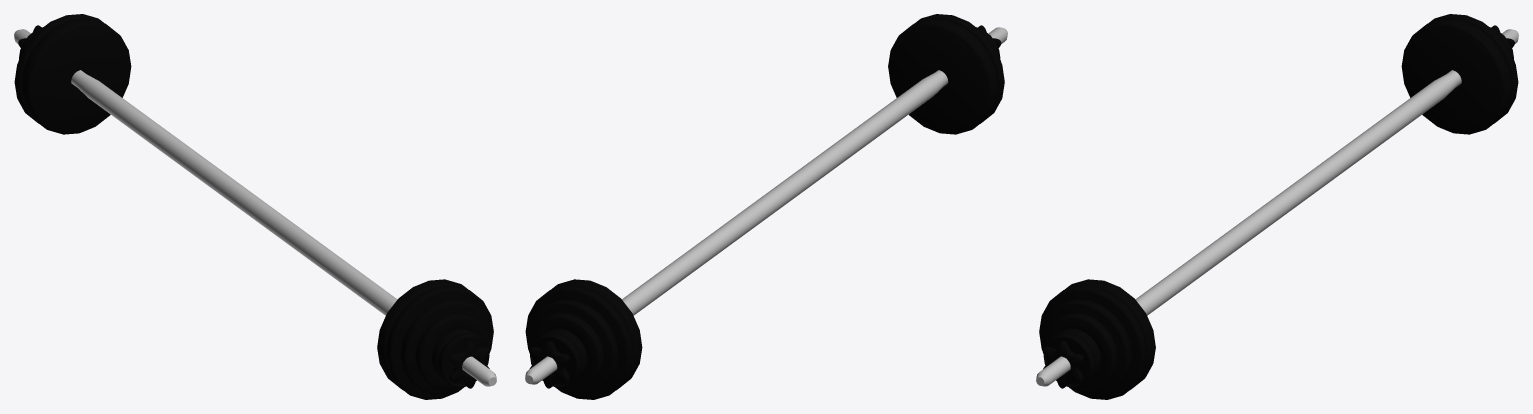
File: barra.obj
3 renders of one model, left to right at view 1: azimuth 30°, elevation 25°; view 2: azimuth 150°, elevation 25°; view 3: azimuth 330°, elevation 25°, orthographic.
Parts seen in each view (by area): view 1: Cylinder001, Cylinder012, Cylinder022, Cylinder024, Cylinder019, Cylinder023, Cylinder021, Cylinder011, Star003, Cylinder020; view 2: Cylinder001, Cylinder023, Cylinder011, Cylinder002, Cylinder004, Cylinder012, Cylinder006, Cylinder022, Star001, Cylinder005; view 3: Cylinder001, Cylinder012, Cylinder022, Cylinder024, Cylinder019, Cylinder023, Cylinder021, Cylinder011, Star003, Cylinder020.
Boxes of the visible parts, bbox=[...] form: Cylinder001: bbox=[14, 29, 496, 386]; Cylinder012: bbox=[21, 18, 131, 134]; Cylinder022: bbox=[385, 285, 493, 399]; Cylinder024: bbox=[400, 299, 491, 394]; Cylinder019: bbox=[415, 313, 488, 390]; Cylinder023: bbox=[377, 279, 467, 390]; Cylinder021: bbox=[437, 333, 489, 387]; Cylinder011: bbox=[14, 14, 103, 123]; Star003: bbox=[449, 341, 490, 388]; Cylinder020: bbox=[431, 328, 475, 380]; Cylinder001: bbox=[525, 27, 1007, 384]; Cylinder023: bbox=[888, 18, 998, 134]; Cylinder011: bbox=[525, 285, 633, 399]; Cylinder002: bbox=[528, 299, 618, 395]; Cylinder004: bbox=[531, 313, 604, 390]; Cylinder012: bbox=[551, 279, 642, 390]; Cylinder006: bbox=[530, 333, 581, 387]; Cylinder022: bbox=[915, 14, 1004, 123]; Star001: bbox=[529, 341, 569, 388]; Cylinder005: bbox=[543, 328, 587, 380]; Cylinder001: bbox=[1036, 29, 1518, 386]; Cylinder012: bbox=[1401, 18, 1511, 134]; Cylinder022: bbox=[1039, 285, 1147, 399]; Cylinder024: bbox=[1041, 299, 1132, 394]; Cylinder019: bbox=[1044, 313, 1117, 390]; Cylinder023: bbox=[1064, 279, 1155, 389]; Cylinder021: bbox=[1043, 333, 1095, 387]; Cylinder011: bbox=[1429, 14, 1518, 123]; Star003: bbox=[1042, 341, 1083, 388]; Cylinder020: bbox=[1057, 328, 1101, 380].
Size of the model in its own units: 1.23 by 1.23 by 9.65.
Materials: 2 (2 with a texture image).
